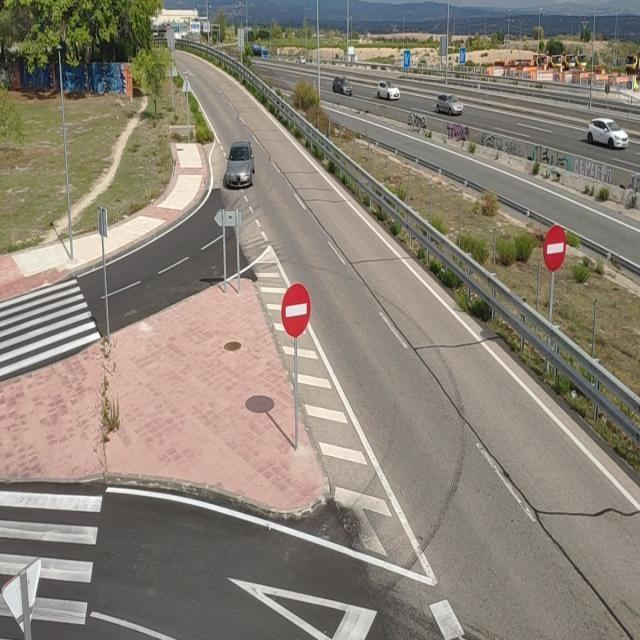Car: (226, 140, 255, 189), (587, 117, 628, 150), (435, 94, 463, 116), (377, 80, 400, 100), (332, 77, 353, 95), (294, 55, 306, 65)
Truck: (511, 53, 550, 69), (624, 51, 640, 75), (545, 53, 564, 69), (560, 53, 576, 70), (574, 54, 589, 71)
